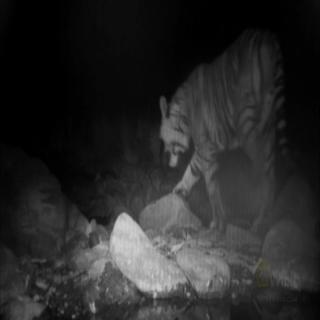Tiger: (152, 32, 296, 224)
